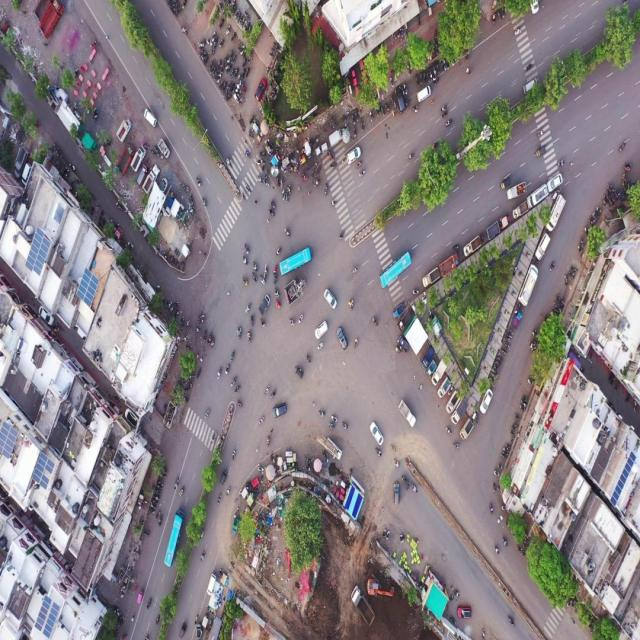3W: (176, 620, 190, 640), (534, 146, 547, 161), (499, 176, 512, 191), (294, 362, 304, 381), (401, 474, 410, 494), (219, 470, 228, 487), (136, 590, 144, 608)
Bus: (164, 506, 186, 571), (378, 248, 410, 291), (280, 245, 313, 278)
Cars: (535, 233, 552, 261), (270, 400, 288, 423), (253, 77, 269, 102), (323, 287, 337, 315), (370, 419, 384, 445), (142, 105, 158, 127), (480, 388, 493, 415), (314, 319, 330, 340), (394, 87, 406, 113), (346, 145, 362, 163), (336, 325, 347, 351), (548, 174, 563, 193), (207, 572, 217, 598), (522, 78, 538, 94), (456, 605, 472, 621), (416, 85, 431, 102), (392, 481, 400, 505)
LCV: (519, 265, 538, 307), (546, 194, 565, 232), (396, 400, 416, 429), (450, 398, 469, 428), (114, 115, 133, 142), (144, 164, 161, 194), (527, 186, 549, 209), (431, 358, 447, 387), (420, 267, 440, 289), (462, 235, 481, 258), (326, 437, 344, 460), (439, 254, 458, 275), (506, 183, 529, 200), (131, 145, 146, 171), (446, 389, 460, 414), (459, 418, 474, 440), (397, 311, 412, 333), (157, 136, 171, 158), (513, 199, 528, 219), (422, 345, 435, 368), (437, 377, 450, 399), (329, 127, 343, 146), (259, 295, 272, 315), (392, 303, 404, 319), (426, 361, 437, 377), (512, 312, 522, 329), (399, 336, 409, 351)
M2W: (203, 405, 212, 421), (622, 160, 633, 173), (410, 481, 420, 495), (229, 375, 238, 390), (618, 142, 630, 152), (146, 595, 153, 612), (316, 342, 325, 355), (347, 299, 356, 312), (494, 543, 501, 559), (225, 483, 233, 497), (178, 483, 186, 497), (196, 366, 203, 382), (507, 615, 516, 627), (373, 446, 382, 458), (523, 60, 532, 72), (233, 383, 242, 394), (154, 613, 161, 627), (243, 244, 251, 256), (236, 399, 244, 411), (258, 415, 266, 427), (207, 329, 213, 345), (201, 196, 208, 209), (216, 493, 223, 506), (199, 549, 206, 562), (265, 434, 272, 447), (353, 334, 359, 349), (263, 263, 269, 278), (236, 326, 242, 341), (283, 228, 292, 238), (407, 152, 416, 162), (556, 158, 565, 168), (329, 414, 339, 423), (318, 409, 327, 419), (230, 348, 236, 363), (270, 389, 279, 399), (172, 476, 178, 491), (202, 328, 208, 343), (569, 265, 579, 274), (338, 229, 346, 240), (258, 275, 266, 286), (304, 354, 312, 365), (274, 288, 281, 300), (274, 298, 281, 310), (260, 318, 267, 330), (245, 302, 252, 314), (242, 276, 249, 288), (264, 384, 271, 396), (479, 628, 486, 640), (359, 120, 365, 134), (351, 266, 360, 275), (411, 287, 420, 296), (142, 529, 151, 538), (226, 158, 234, 168), (577, 242, 582, 258), (489, 502, 495, 515), (249, 314, 255, 327), (216, 365, 222, 378), (210, 431, 216, 444), (428, 67, 434, 80), (588, 215, 594, 228), (241, 255, 248, 266), (441, 110, 448, 121), (536, 128, 543, 139), (549, 261, 556, 272), (394, 458, 401, 469), (493, 469, 500, 480), (288, 318, 297, 326), (243, 184, 251, 193), (173, 300, 181, 309), (150, 147, 156, 159), (579, 236, 585, 248), (244, 9, 250, 21), (231, 4, 237, 16), (237, 41, 243, 53), (372, 317, 379, 327), (501, 538, 508, 548), (445, 426, 452, 436), (450, 615, 457, 625), (253, 261, 259, 272), (272, 263, 278, 274), (252, 272, 258, 283), (195, 175, 201, 186), (359, 169, 365, 180), (225, 364, 231, 375), (244, 149, 250, 160), (257, 175, 263, 186), (187, 378, 193, 389), (568, 270, 574, 281), (314, 178, 320, 189), (226, 24, 232, 35), (247, 330, 252, 343), (432, 64, 437, 77), (385, 101, 390, 114), (369, 110, 374, 123), (403, 83, 408, 96), (563, 273, 568, 286), (596, 205, 601, 218), (219, 17, 224, 30), (382, 527, 387, 540), (327, 423, 335, 431), (276, 247, 283, 256), (330, 199, 337, 208), (356, 161, 363, 170), (440, 105, 449, 112), (452, 242, 459, 251), (256, 465, 265, 472), (432, 77, 439, 86), (330, 161, 337, 170), (527, 378, 534, 387), (263, 179, 270, 188), (273, 275, 279, 285), (298, 314, 304, 324), (342, 420, 348, 430), (232, 447, 236, 462), (159, 514, 163, 529), (183, 394, 189, 404), (436, 63, 441, 75), (281, 189, 286, 201), (286, 185, 292, 195), (231, 31, 237, 41), (219, 38, 225, 48), (223, 53, 229, 63), (229, 48, 234, 60), (241, 58, 247, 68), (242, 20, 247, 32), (155, 511, 161, 521), (324, 182, 328, 196), (445, 118, 452, 126), (419, 72, 423, 86), (496, 463, 503, 471), (520, 399, 527, 407), (518, 404, 526, 411), (148, 507, 155, 515), (214, 35, 219, 46), (211, 43, 216, 54), (209, 59, 214, 70), (240, 45, 245, 56), (269, 209, 275, 218), (270, 200, 276, 209), (206, 38, 212, 47), (268, 52, 274, 61), (423, 71, 427, 84), (415, 74, 419, 87), (390, 75, 394, 88), (353, 126, 357, 139), (381, 105, 385, 118), (592, 211, 597, 221), (219, 79, 224, 89), (453, 442, 460, 449), (500, 349, 507, 356), (503, 342, 510, 349), (156, 480, 163, 487), (211, 337, 215, 349), (480, 230, 484, 242), (195, 614, 199, 626), (426, 71, 430, 83), (503, 337, 511, 343), (514, 414, 520, 422), (276, 176, 280, 188), (239, 13, 243, 25), (234, 68, 239, 77), (234, 9, 239, 18), (352, 114, 356, 125), (238, 74, 242, 85), (355, 109, 358, 123), (497, 355, 503, 362), (507, 328, 514, 334), (505, 332, 512, 338), (500, 453, 506, 460), (150, 502, 156, 509), (153, 495, 160, 501), (262, 161, 266, 171), (265, 169, 269, 179), (212, 31, 216, 41), (245, 68, 249, 78), (232, 54, 236, 64), (231, 68, 235, 78), (386, 530, 390, 540), (391, 93, 394, 106), (494, 360, 500, 366), (280, 177, 283, 189), (218, 58, 222, 67), (286, 191, 289, 202)
Truck: (349, 587, 373, 626), (40, 1, 63, 39), (115, 143, 134, 178)
